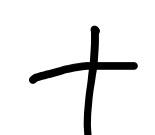plus: (29, 26, 138, 135)
